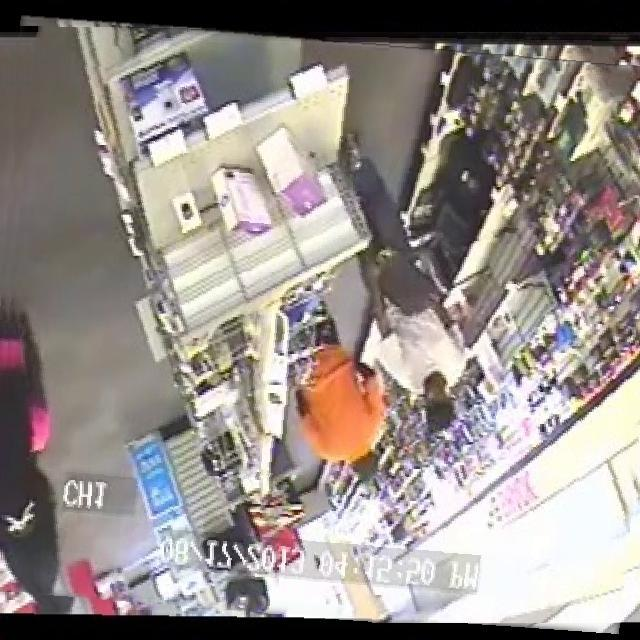Normal: (0, 26, 640, 623)
